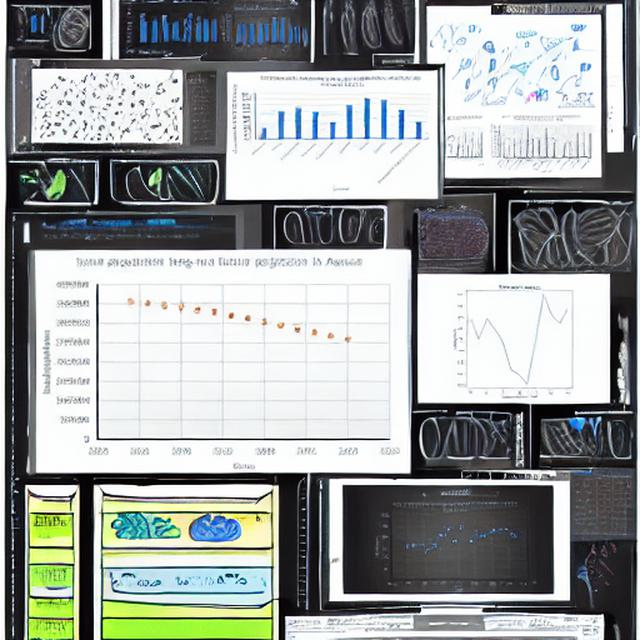Graph: (37, 253, 404, 472), (230, 73, 430, 196), (425, 275, 609, 402), (371, 497, 533, 594), (486, 112, 596, 177), (216, 5, 311, 62)
